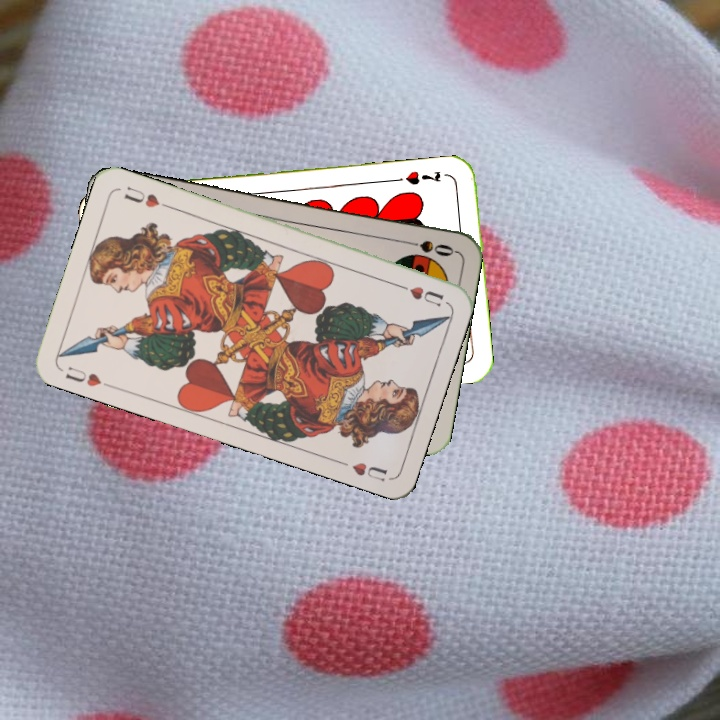H7: (401, 167, 444, 187)
HU: (391, 279, 446, 309), (61, 362, 104, 389)
SO: (398, 236, 457, 259)
